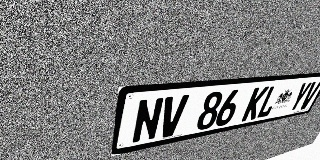6: (213, 89, 244, 127)
8: (195, 91, 226, 131)
K: (241, 86, 269, 122)
L: (255, 85, 283, 119)
N: (131, 97, 165, 144)
V: (157, 94, 189, 139), (298, 81, 320, 110)
Y: (287, 82, 313, 112)
